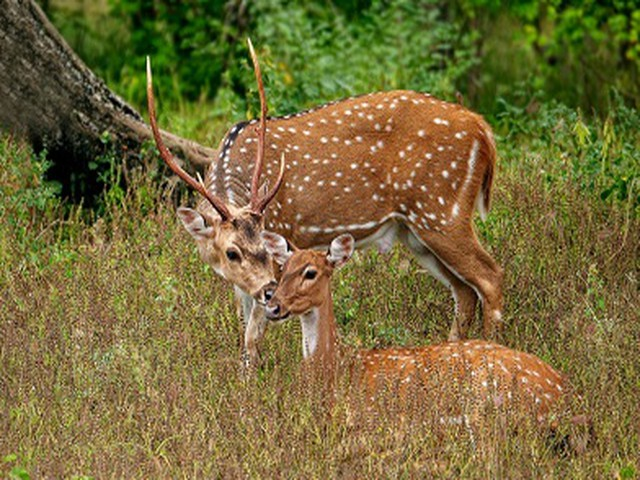deer: (139, 14, 514, 283), (280, 241, 578, 446)
